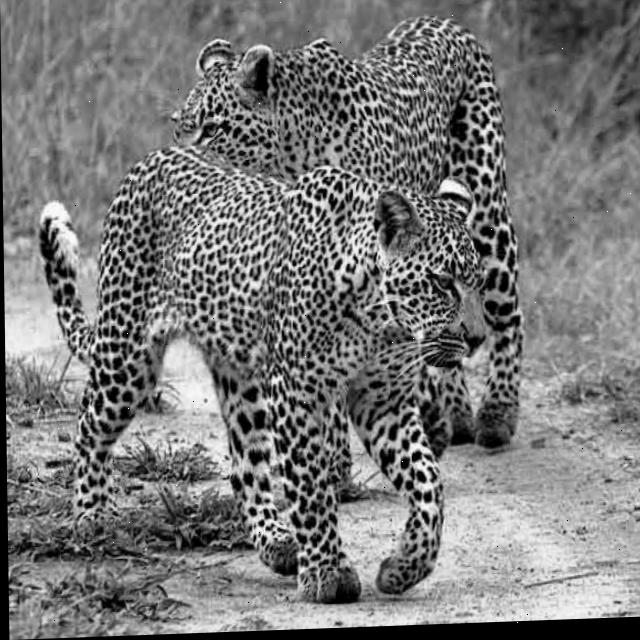Leopard: (35, 130, 490, 612), (167, 10, 526, 469)
